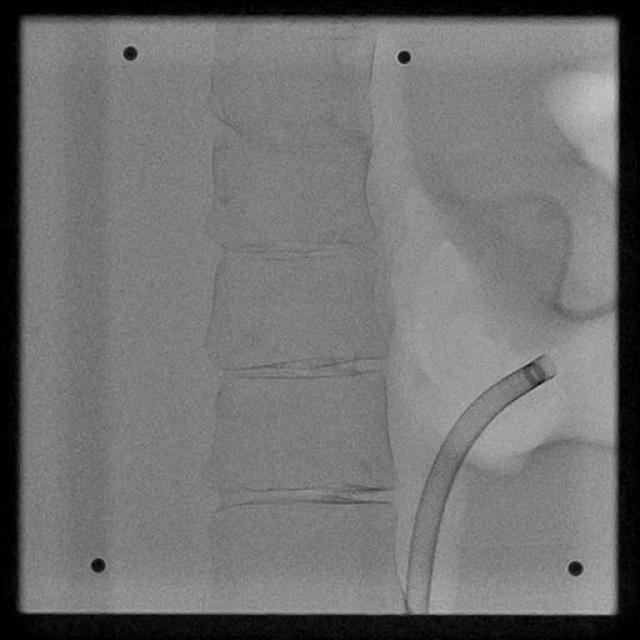bend: (406, 596, 428, 607)
entry: (405, 608, 427, 614)
marker: (525, 362, 546, 387)
tip: (542, 356, 556, 376)
